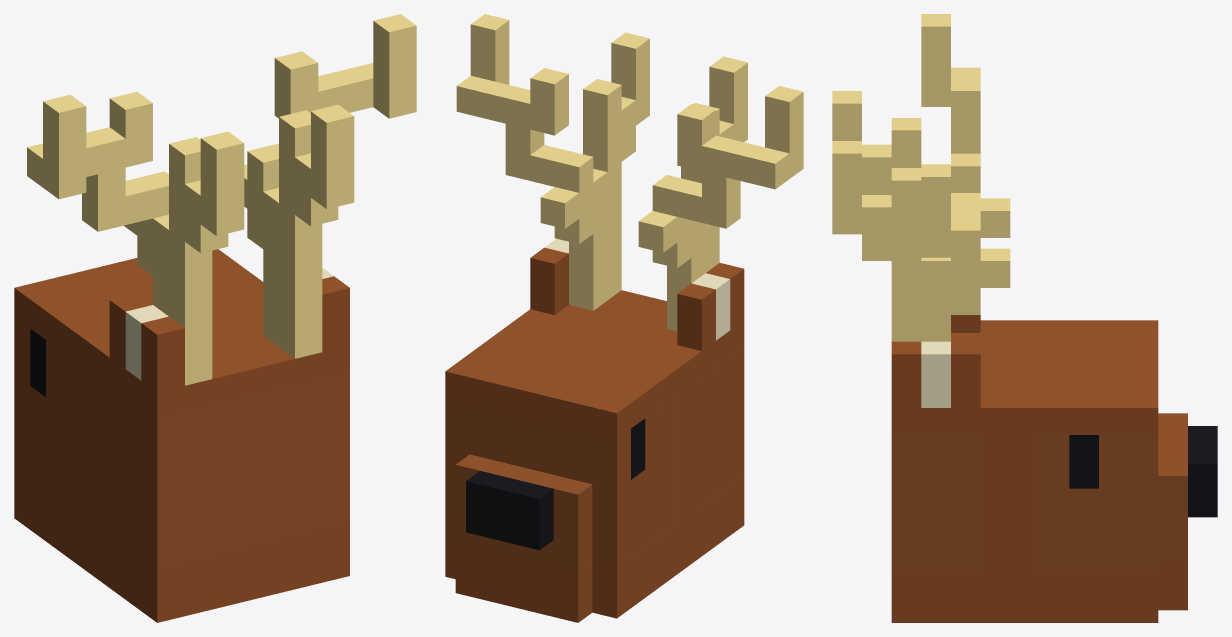
Rendered from Deer-0.obj.
The picture shows the model from 3 angles, left to right: view 1: azimuth 30°, elevation 25°; view 2: azimuth 150°, elevation 25°; view 3: azimuth 270°, elevation 25°; orthographic projection. The views are drawn at different scales.
Bounding box in the file's own units: 1.3 × 1.8 × 1.3.
Materials: 1 (1 with a texture image).
